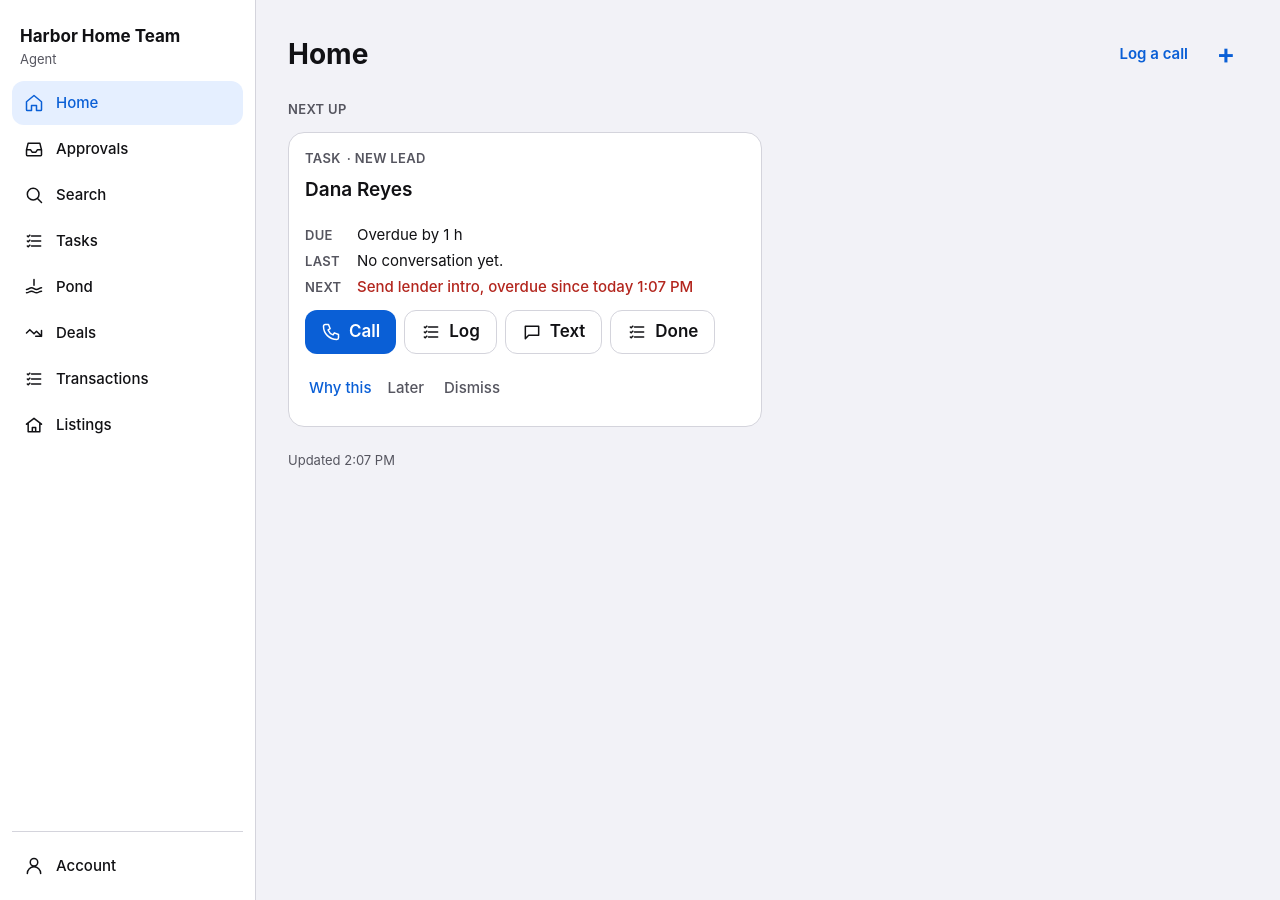
it: M3 (R-TODAY-11): a task that is not due is never closed; the sheet says the person will have two follow-ups › a promise the card is about stays open, and the footer says so
Click the button with aria-label "Log for Dana Reyes" at coordinates (450, 332), box [404,310,497,354]
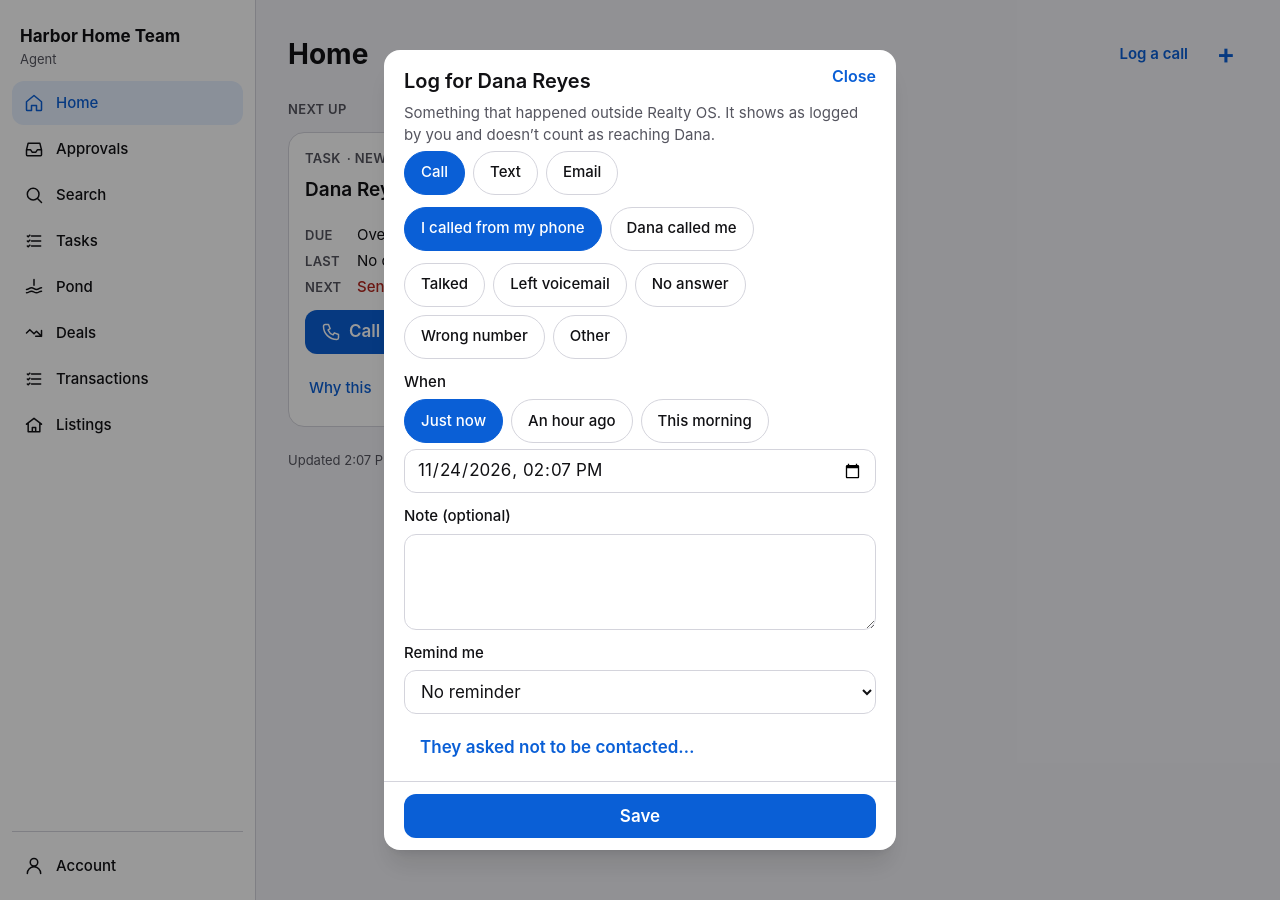
Click the button "Left voicemail" at coordinates (560, 285), box [493,263,627,307]
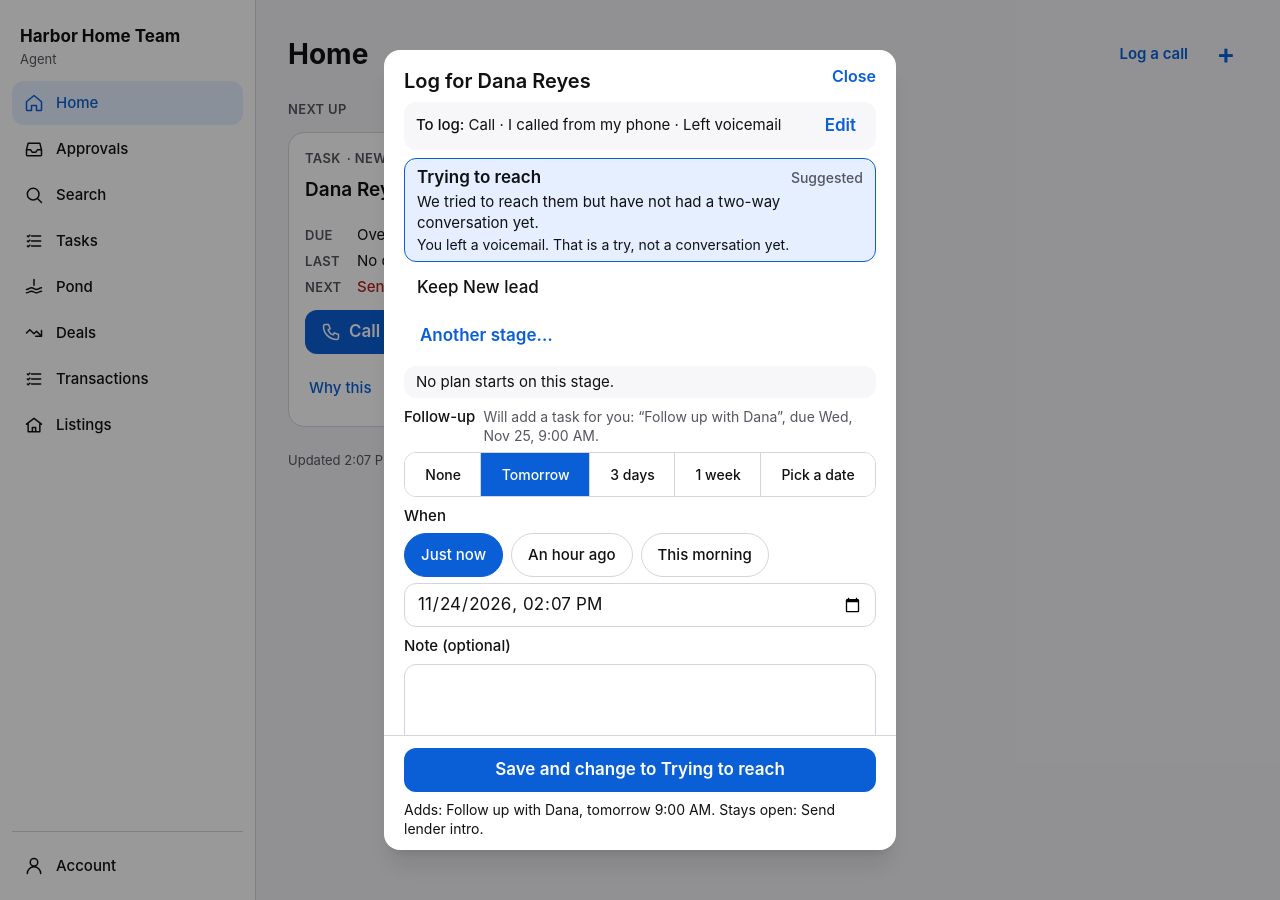
Result: the button with test id "log-save" is enabled
Result: the radio button labelled "Suggested" is shown at [404,158,876,262]
Result: the text with test id "tap-effects" reads "Adds: Follow up with Dana, tomorrow 9:00 AM. Stays open: Send lender intro." at [404,801,835,837]
Click the button with test id "log-save" at coordinates (640, 770), box [404,748,876,792]
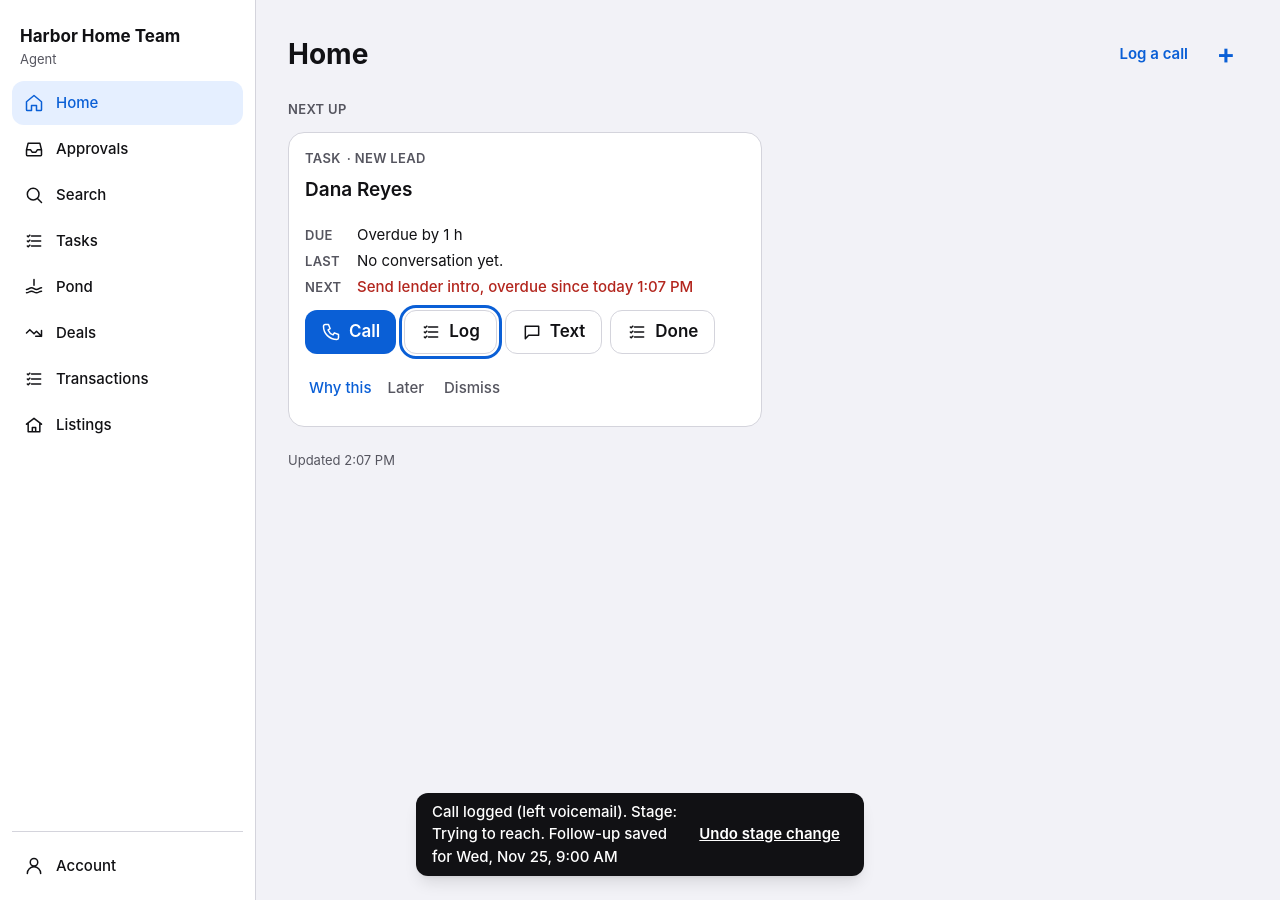
Result: the dialog is gone
